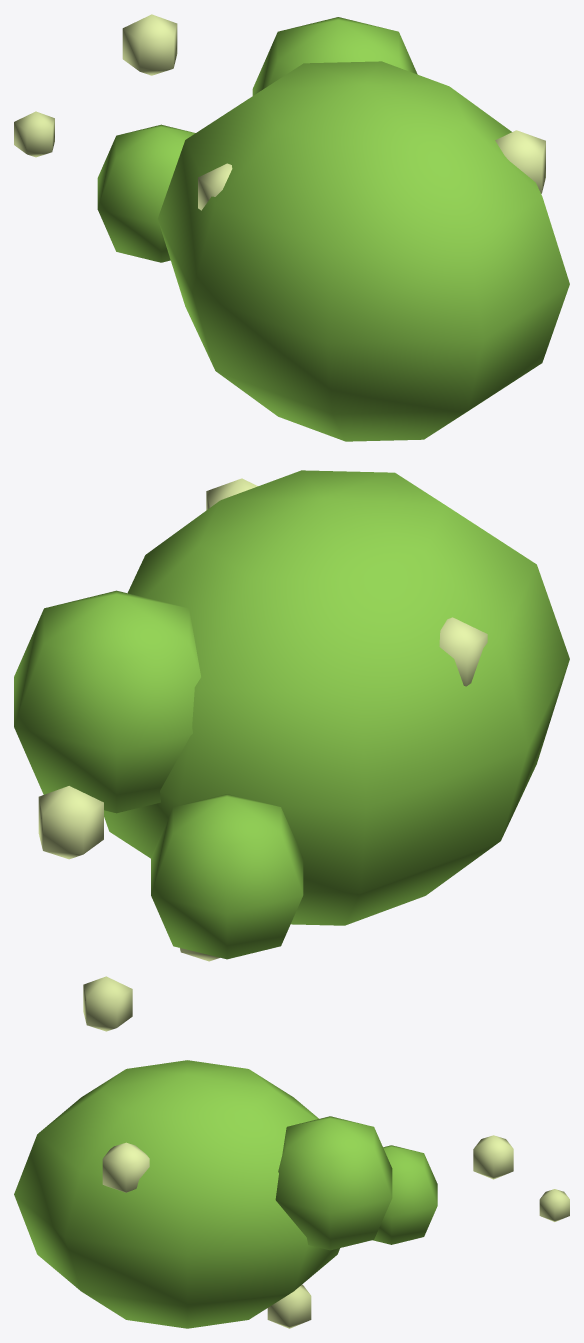
The model's file is projectile-spit.glb.
3 views of the same model, one above another, from view 1: azimuth 30°, elevation 25°; view 2: azimuth 150°, elevation 25°; view 3: azimuth 270°, elevation 25° (orthographic). The views are drawn at different scales.
Parts seen in each view (by area): view 1: spit; view 2: spit; view 3: spit.
Boxes of the visible parts, x1,y1,x2,y2 form: spit: [14, 14, 569, 441]; spit: [14, 470, 569, 1031]; spit: [14, 1060, 569, 1328].
Size of the model in its own units: 0.14 by 0.133 by 0.2724.
